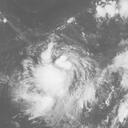cyclone: (11, 40, 92, 121)
